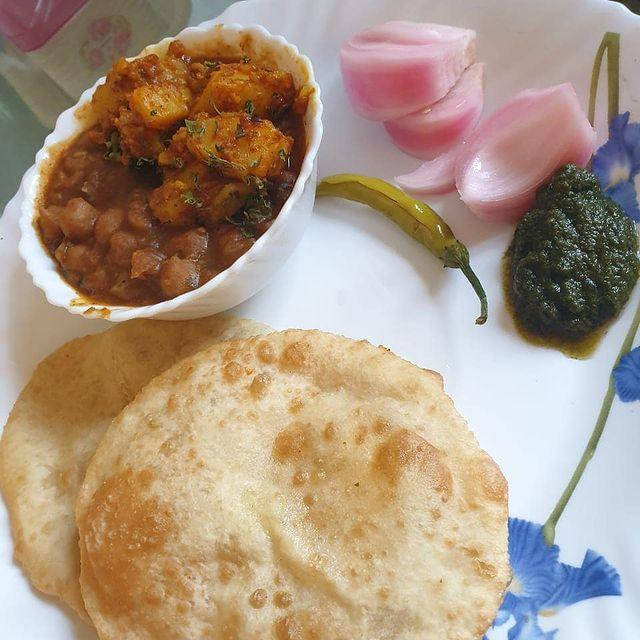Chole: (16, 182, 232, 319)
